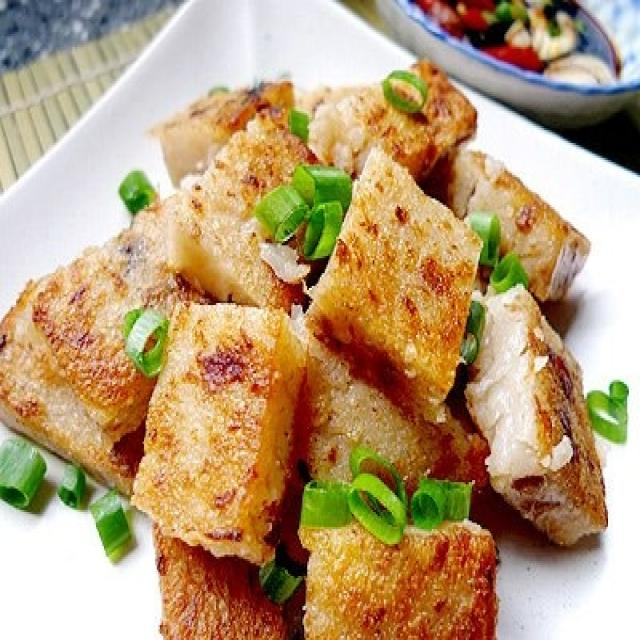蛋糕甜品: (13, 38, 621, 619)
